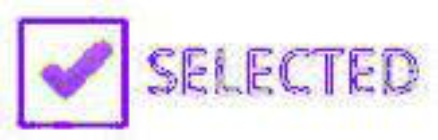CheckBox: (1, 1, 437, 139)
